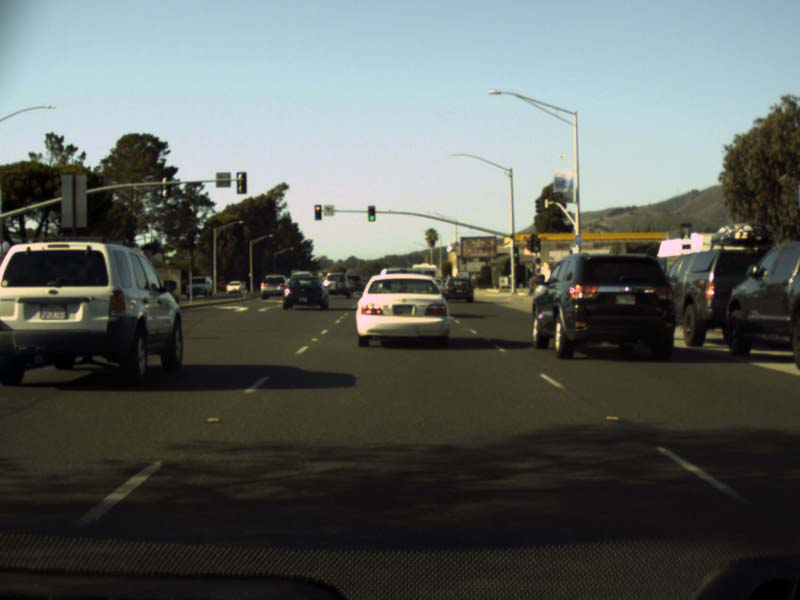Green: (367, 205, 375, 221), (534, 238, 539, 250), (513, 247, 517, 257)
Red: (315, 204, 321, 219)
